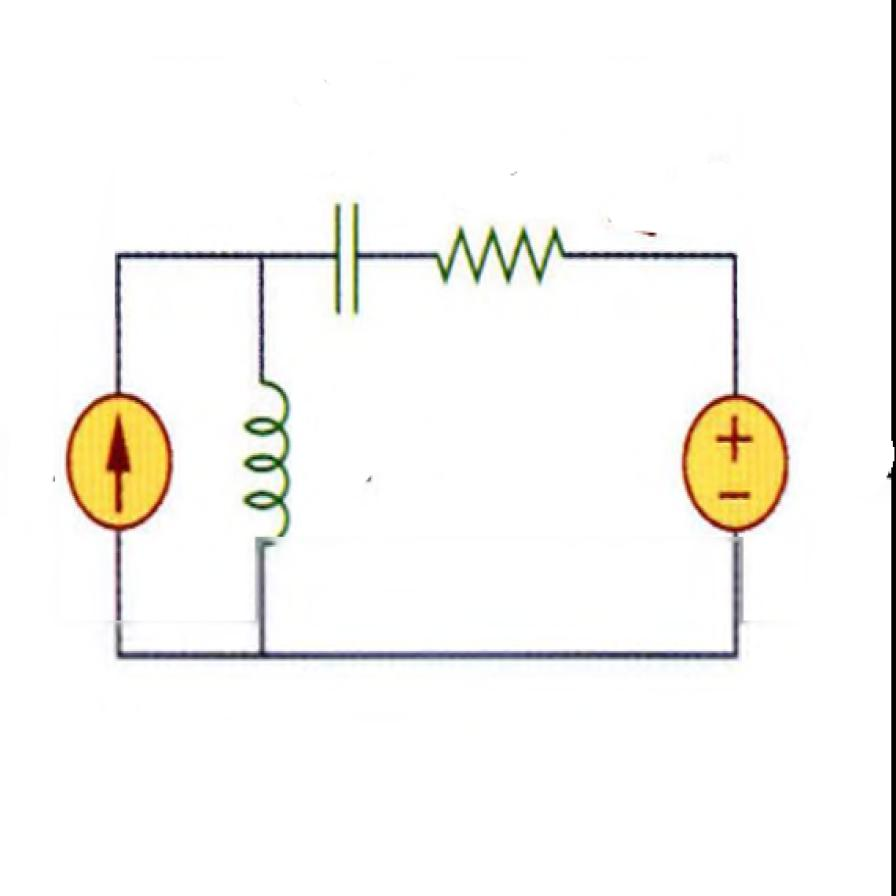C1: (302, 175, 382, 336)
I1: (59, 388, 178, 548)
L2: (220, 355, 308, 564)
R1: (421, 184, 581, 334)
V1: (672, 378, 792, 540)
